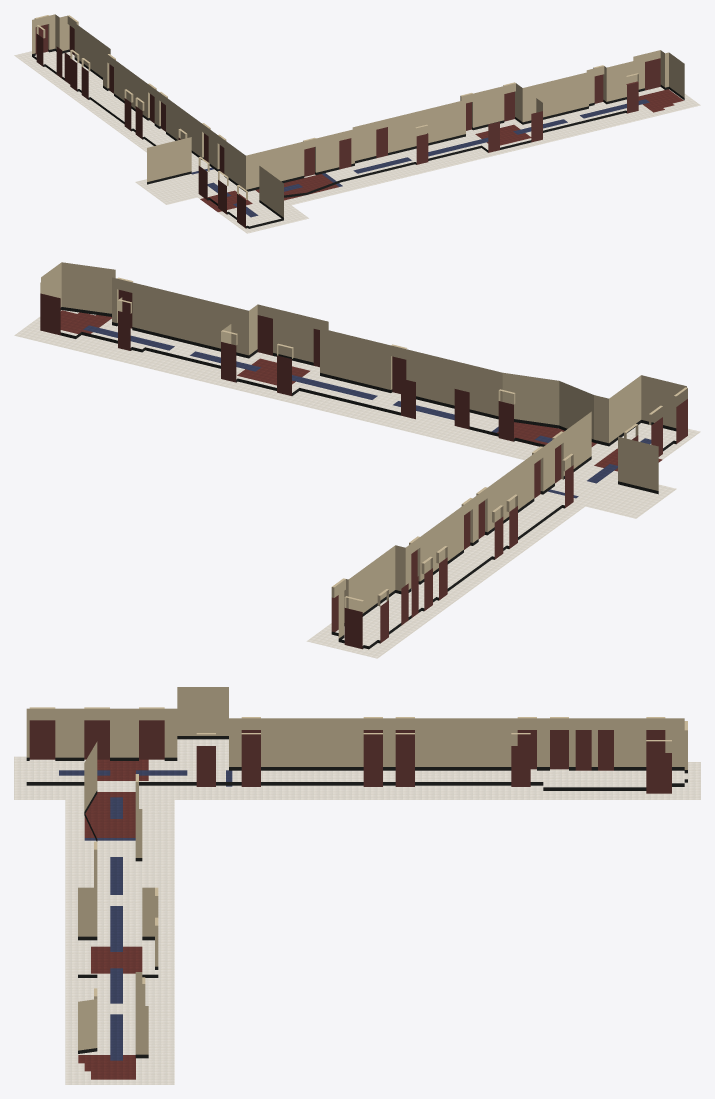
Rendered from irglm_4th_floor.gltf.
3 renders of one model, top to bottom at view 1: azimuth 30°, elevation 25°; view 2: azimuth 150°, elevation 25°; view 3: azimuth 270°, elevation 25°, orthographic. The views are drawn at different scales.
Visible parts, largest first — view 1: Walls, Ground; view 2: Walls, Ground; view 3: Ground, Walls.
Part boxes in pixels (box(x1,y1,x2,y2)): Walls: box(32, 14, 684, 228); Ground: box(14, 51, 700, 233); Walls: box(40, 262, 687, 649); Ground: box(14, 310, 700, 658); Ground: box(14, 739, 700, 1084); Walls: box(26, 687, 687, 1058).
Size of the model in its own units: 39.32 by 2.74 by 32.61.
Materials: 7 (3 with a texture image).
